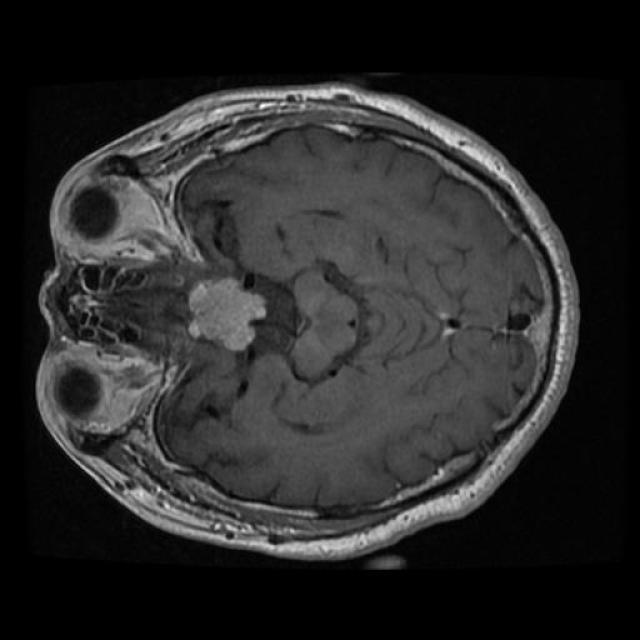Pituitary: (189, 278, 266, 351)
